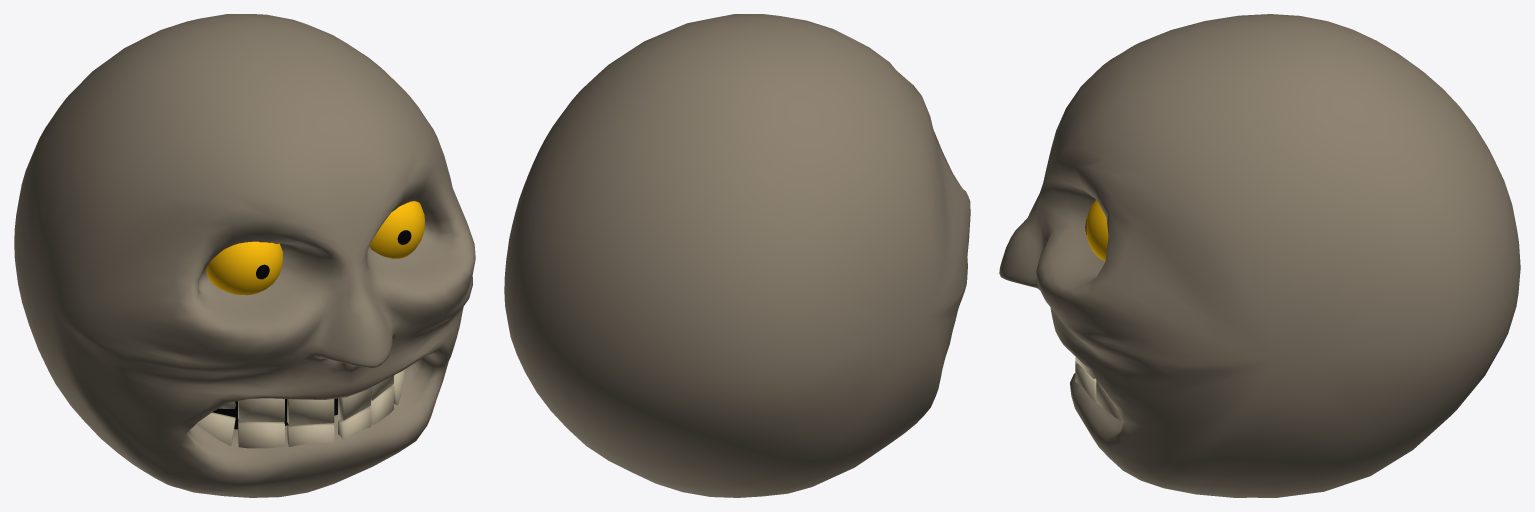
File: Boss.obj
3 renders of one model, left to right at view 1: azimuth 30°, elevation 25°; view 2: azimuth 150°, elevation 25°; view 3: azimuth 270°, elevation 25°, orthographic. The views are drawn at different scales.
Parts seen in each view (by area): view 1: group_Moon, group_Teeth, group_Eye, group_Pupil; view 2: group_Moon; view 3: group_Moon, group_Eye, group_Teeth.
Part boxes in pixels (x1,y1,x2,y2): group_Moon: (14, 14, 475, 497); group_Teeth: (196, 369, 405, 448); group_Eye: (206, 201, 424, 295); group_Pupil: (212, 230, 411, 429); group_Moon: (504, 14, 970, 497); group_Moon: (999, 14, 1520, 497); group_Eye: (1086, 200, 1108, 261); group_Teeth: (1075, 356, 1122, 420).
Bounding box in the file's own units: 2.69 × 2.92 × 3.12.
